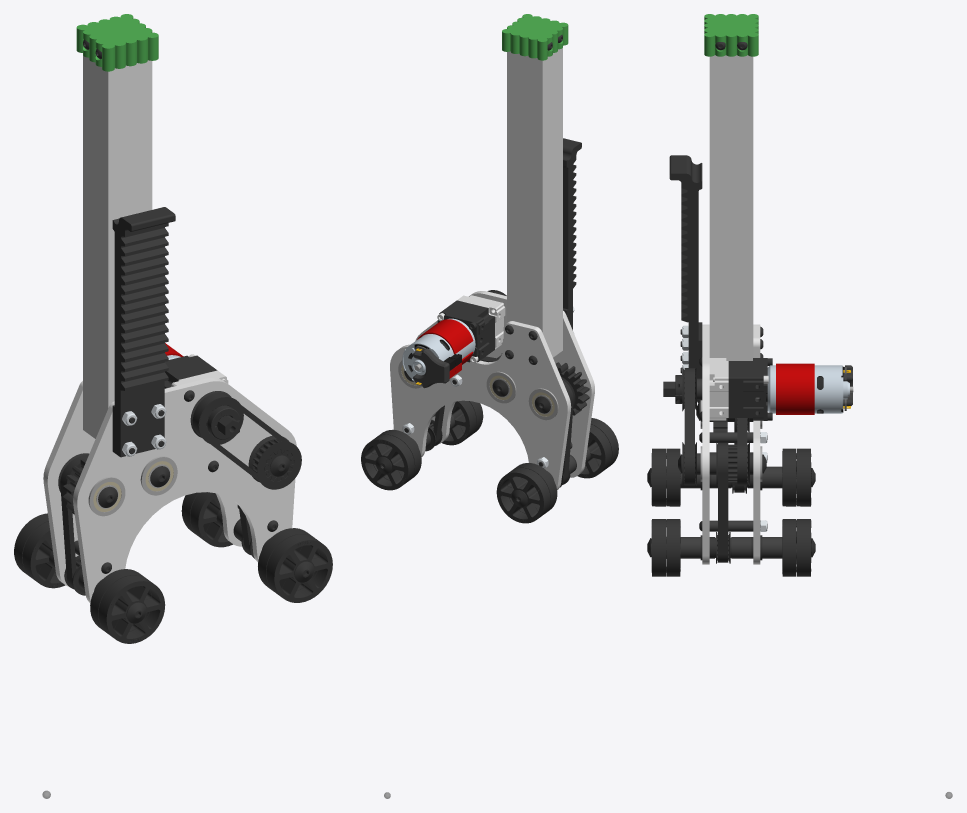
The picture shows the model from 3 angles, left to right: view 1: azimuth 30°, elevation 25°; view 2: azimuth 150°, elevation 25°; view 3: azimuth 270°, elevation 25°; orthographic projection. The views are drawn at different scales.
Visible parts, largest first — view 1: Claw Motor Plate, Tube 1.5"x1.5"x13", 10 DP Gear Rack (#10-32 Clearance), 2" Flex Wheel (30A, 1/2" Wide, 1/2" Hex Stretch Bore) (×7), Claw Other Plate, Arm Inner Endcap, 22t Custom HTD 5mm Pulley (0.375" Wide, 1/2" Hex Bore w/ TTB (×2), 50T HTD Belt (×2), 1/2" Rounded Hex (13.75mm) ID Bearing (1.125" OD, 0.313" WD, (×2); view 2: Tube 1.5"x1.5"x13", Claw Other Plate, 2" Flex Wheel (30A, 1/2" Wide, 1/2" Hex Stretch Bore) (×7), Claw Motor Plate, 775 RedLine Motor, Arm Inner Endcap, 10 DP Gear Rack (#10-32 Clearance), 1/2" Rounded Hex (13.75mm) ID Bearing (1.125" OD, 0.313" WD, (×2), 775_inline_connector_v1, VersaPlanetary Input Block, 217-2625-026 Rev1, Spur gear (18 teeth) (+2 smaller); view 3: Tube 1.5"x1.5"x13", 2" Flex Wheel (30A, 1/2" Wide, 1/2" Hex Stretch Bore) (×8), 10 DP Gear Rack (#10-32 Clearance), 775 RedLine Motor, 50T HTD Belt (×2), Arm Inner Endcap, Claw Motor Plate, Claw Other Plate, VersaPlanetary Input Block, 217-2625-026 Rev1, VersaPlanetary Ring Gear, 60T HTD Belt (+1 smaller).
Boxes of the visible parts, bbox=[...] form: Claw Motor Plate: bbox=[73, 378, 296, 602]; Tube 1.5"x1.5"x13": bbox=[83, 55, 152, 438]; 10 DP Gear Rack (#10-32 Clearance): bbox=[112, 207, 175, 457]; 2" Flex Wheel (30A, 1/2" Wide, 1/2" Hex Stretch Bore) (×7): bbox=[14, 492, 332, 643]; Claw Other Plate: bbox=[43, 381, 242, 586]; Arm Inner Endcap: bbox=[76, 14, 158, 71]; 22t Custom HTD 5mm Pulley (0.375" Wide, 1/2" Hex Bore w/ TTB (×2): bbox=[190, 391, 301, 489]; 50T HTD Belt (×2): bbox=[60, 392, 288, 588]; 1/2" Rounded Hex (13.75mm) ID Bearing (1.125" OD, 0.313" WD, (×2): bbox=[88, 456, 177, 516]; Tube 1.5"x1.5"x13": bbox=[507, 48, 562, 357]; Claw Other Plate: bbox=[390, 321, 571, 490]; 2" Flex Wheel (30A, 1/2" Wide, 1/2" Hex Stretch Bore) (×7): bbox=[361, 400, 618, 523]; Claw Motor Plate: bbox=[415, 291, 594, 477]; 775 RedLine Motor: bbox=[402, 318, 475, 384]; Arm Inner Endcap: bbox=[502, 14, 568, 60]; 10 DP Gear Rack (#10-32 Clearance): bbox=[563, 138, 581, 330]; 1/2" Rounded Hex (13.75mm) ID Bearing (1.125" OD, 0.313" WD, (×2): bbox=[486, 371, 558, 420]; 775_inline_connector_v1: bbox=[413, 348, 449, 388]; VersaPlanetary Input Block: bbox=[439, 305, 489, 362]; 217-2625-026 Rev1: bbox=[457, 295, 505, 349]; Spur gear (18 teeth): bbox=[555, 362, 589, 415]; Tube 1.5"x1.5"x13": bbox=[709, 55, 753, 360]; 2" Flex Wheel (30A, 1/2" Wide, 1/2" Hex Stretch Bore) (×8): bbox=[651, 448, 811, 576]; 10 DP Gear Rack (#10-32 Clearance): bbox=[669, 155, 702, 378]; 775 RedLine Motor: bbox=[767, 363, 853, 414]; 50T HTD Belt (×2): bbox=[684, 368, 728, 562]; Arm Inner Endcap: bbox=[704, 14, 758, 56]; Claw Motor Plate: bbox=[702, 324, 709, 564]; Claw Other Plate: bbox=[753, 324, 760, 564]; VersaPlanetary Input Block: bbox=[743, 358, 763, 420]; 217-2625-026 Rev1: bbox=[709, 358, 728, 420]; VersaPlanetary Ring Gear: bbox=[728, 361, 743, 417]; 60T HTD Belt: bbox=[737, 418, 747, 485].
Bounding box in the file's own units: 0.1963 × 0.7242 × 0.2673.
